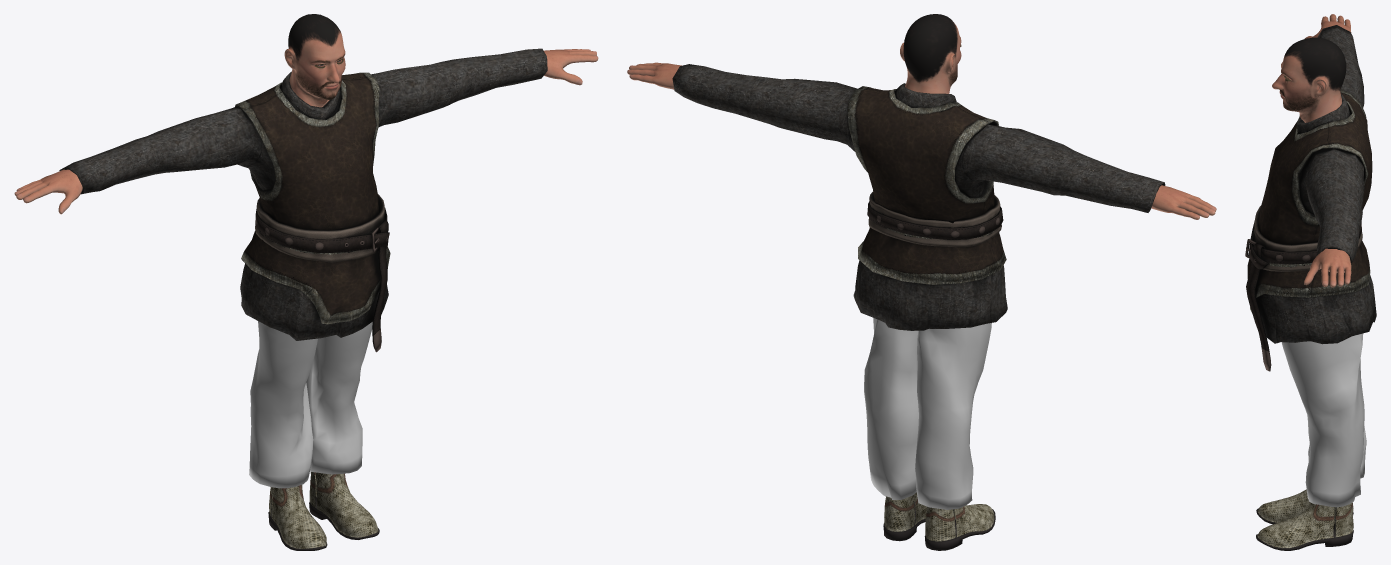
File: Karakter.obj
3 views of the same model, side by side, from view 1: azimuth 30°, elevation 25°; view 2: azimuth 150°, elevation 25°; view 3: azimuth 270°, elevation 25° (orthographic). The views are drawn at different scales.
Parts seen in each view (by area): view 1: Tops, Bottoms, Body, Shoes; view 2: Tops, Bottoms, Body, Shoes; view 3: Tops, Bottoms, Body, Shoes.
Boxes of the visible parts, x1=… form: Tops: x1=59, y1=48, x2=547, y2=352; Bottoms: x1=249, y1=321, x2=372, y2=488; Body: x1=14, y1=14, x2=598, y2=214; Shoes: x1=268, y1=472, x2=379, y2=550; Tops: x1=672, y1=64, x2=1165, y2=330; Bottoms: x1=864, y1=318, x2=991, y2=509; Body: x1=627, y1=14, x2=1216, y2=219; Shoes: x1=883, y1=492, x2=995, y2=550; Tops: x1=1245, y1=25, x2=1376, y2=371; Bottoms: x1=1281, y1=333, x2=1366, y2=507; Body: x1=1272, y1=14, x2=1351, y2=287; Shoes: x1=1256, y1=489, x2=1353, y2=550.
Bounding box in the file's own units: 213 × 179 × 43.4.
